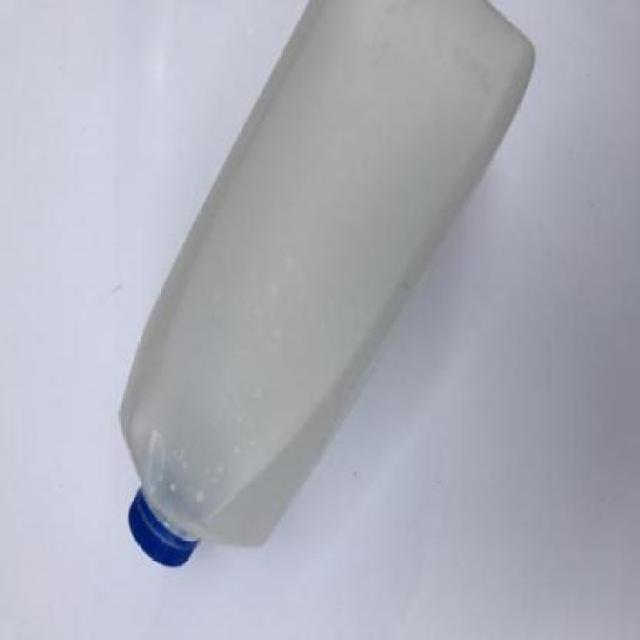PLASTIC: (118, 2, 533, 568), (128, 485, 198, 570)
